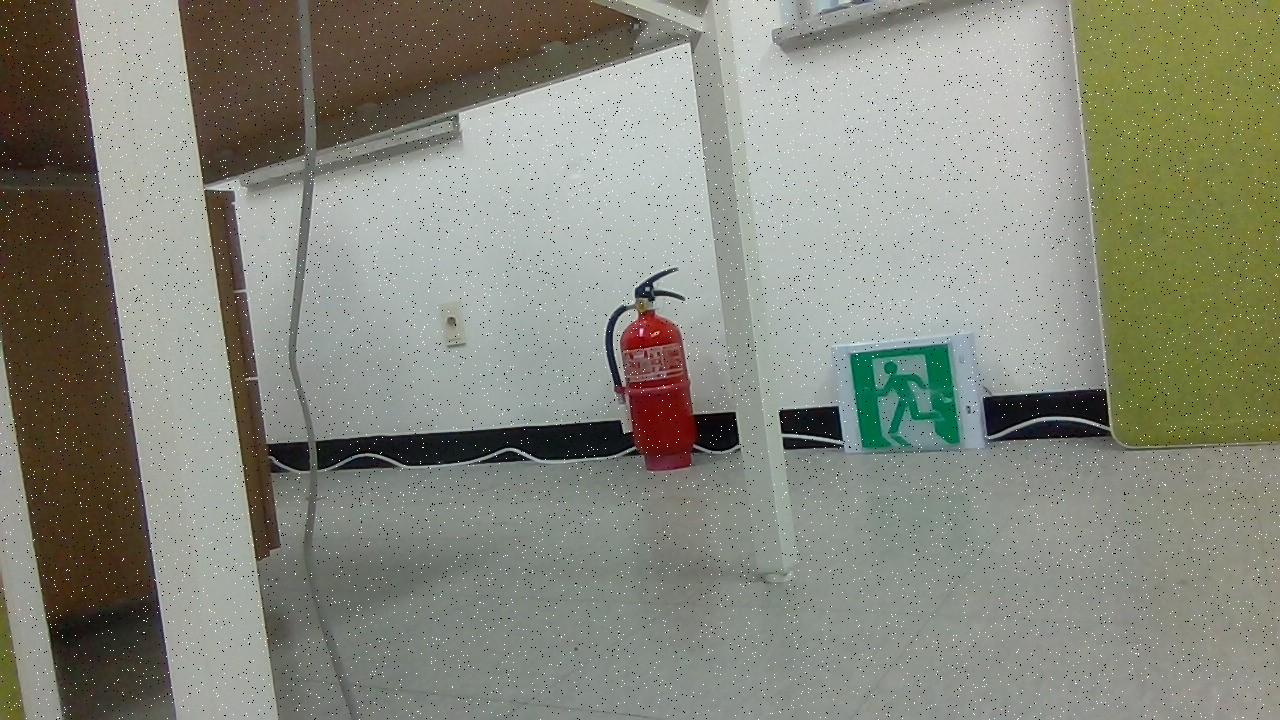emergency_exit: (832, 332, 983, 454)
